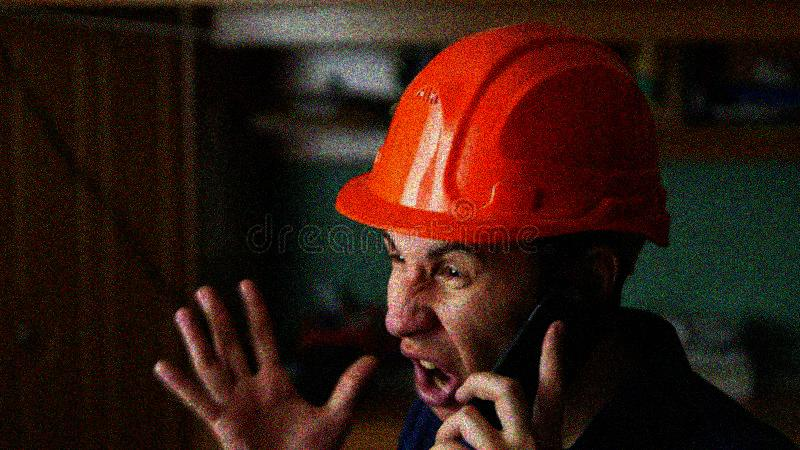helmet: (339, 22, 672, 410)
